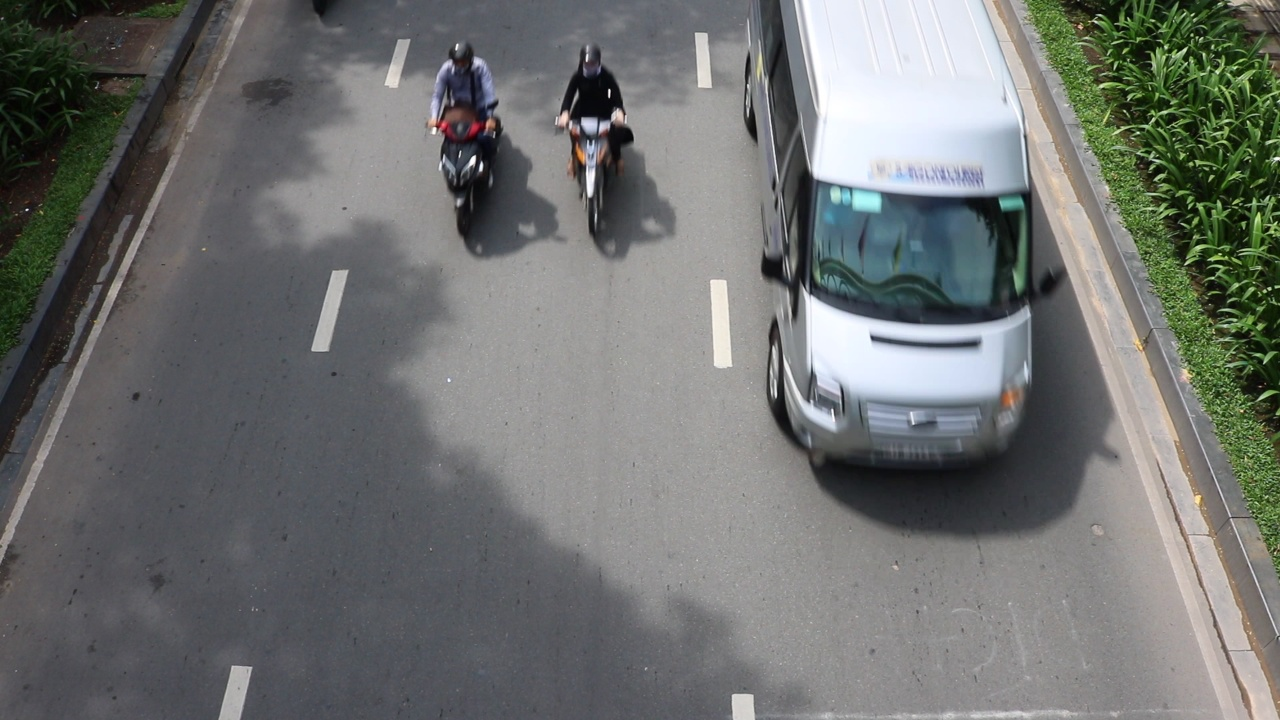motorcycle: (426, 108, 502, 243), (552, 106, 632, 234)
